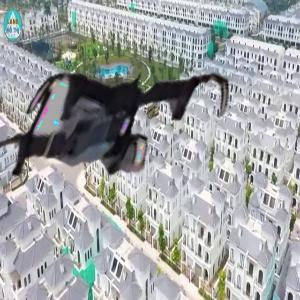drone: (7, 18, 220, 231)
